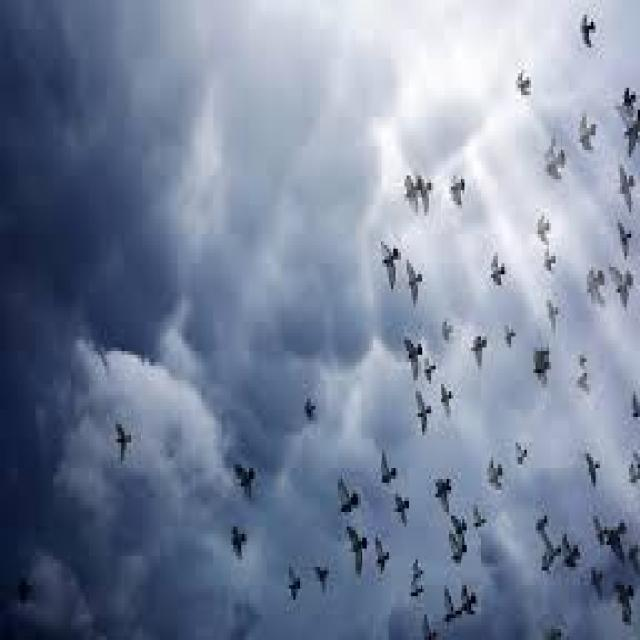bird: (104, 393, 142, 474), (227, 454, 264, 516), (344, 518, 374, 584), (376, 223, 404, 293), (328, 467, 366, 518), (532, 499, 557, 576), (581, 262, 612, 324), (508, 57, 541, 115), (538, 122, 564, 192), (220, 518, 253, 572), (574, 105, 602, 167), (609, 572, 638, 631), (571, 0, 602, 55), (396, 334, 426, 390), (613, 158, 640, 220), (402, 550, 431, 606), (478, 450, 509, 501), (371, 441, 400, 492), (442, 161, 471, 212), (428, 459, 454, 514), (534, 234, 562, 285), (411, 386, 438, 437), (609, 220, 640, 264), (278, 554, 306, 602), (608, 264, 634, 314), (390, 488, 417, 536), (611, 80, 640, 124), (562, 523, 587, 574), (308, 544, 334, 592), (444, 516, 469, 564), (406, 247, 424, 313), (400, 164, 420, 223), (486, 248, 510, 296), (618, 119, 640, 170), (528, 203, 556, 243), (440, 588, 464, 632), (461, 572, 483, 620), (436, 384, 462, 424), (416, 178, 442, 218), (418, 589, 438, 640), (584, 444, 604, 492), (620, 438, 640, 486), (532, 337, 550, 388), (471, 498, 491, 542), (510, 441, 532, 481), (436, 306, 456, 350), (470, 331, 492, 371), (592, 510, 612, 554), (372, 536, 390, 584), (301, 389, 319, 434), (589, 560, 609, 600), (544, 296, 564, 336), (609, 518, 629, 558), (420, 351, 444, 384), (570, 372, 592, 402), (629, 384, 640, 439), (502, 325, 522, 355), (576, 349, 592, 379)
